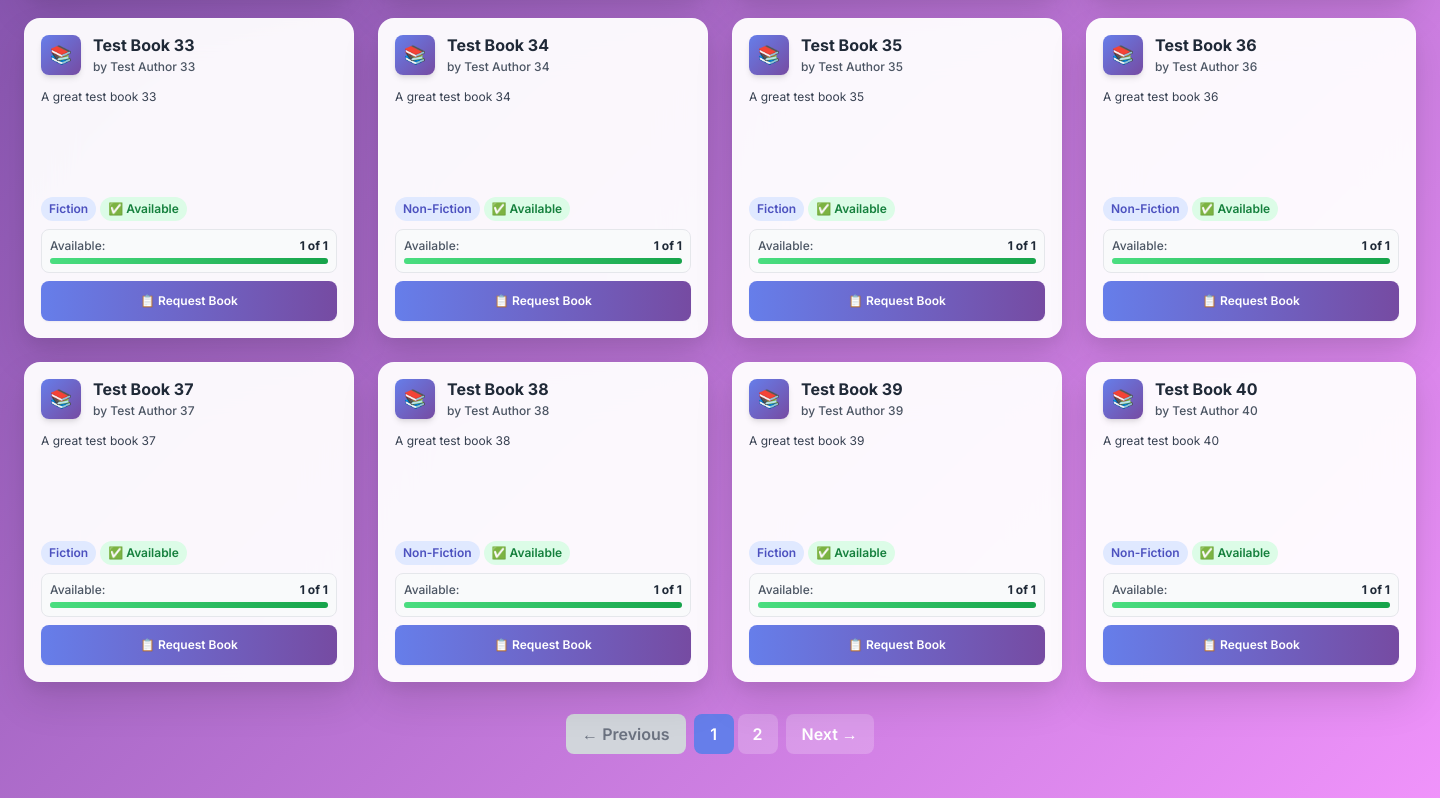
Scenario: BookCatalog Component › resets to first page when filters change
The image size is (1440, 798).
(page scrolled)
# Go to page 2
Click the button "Next →". click: click(830, 734)
box: [786, 714, 874, 754]
(page scrolled)
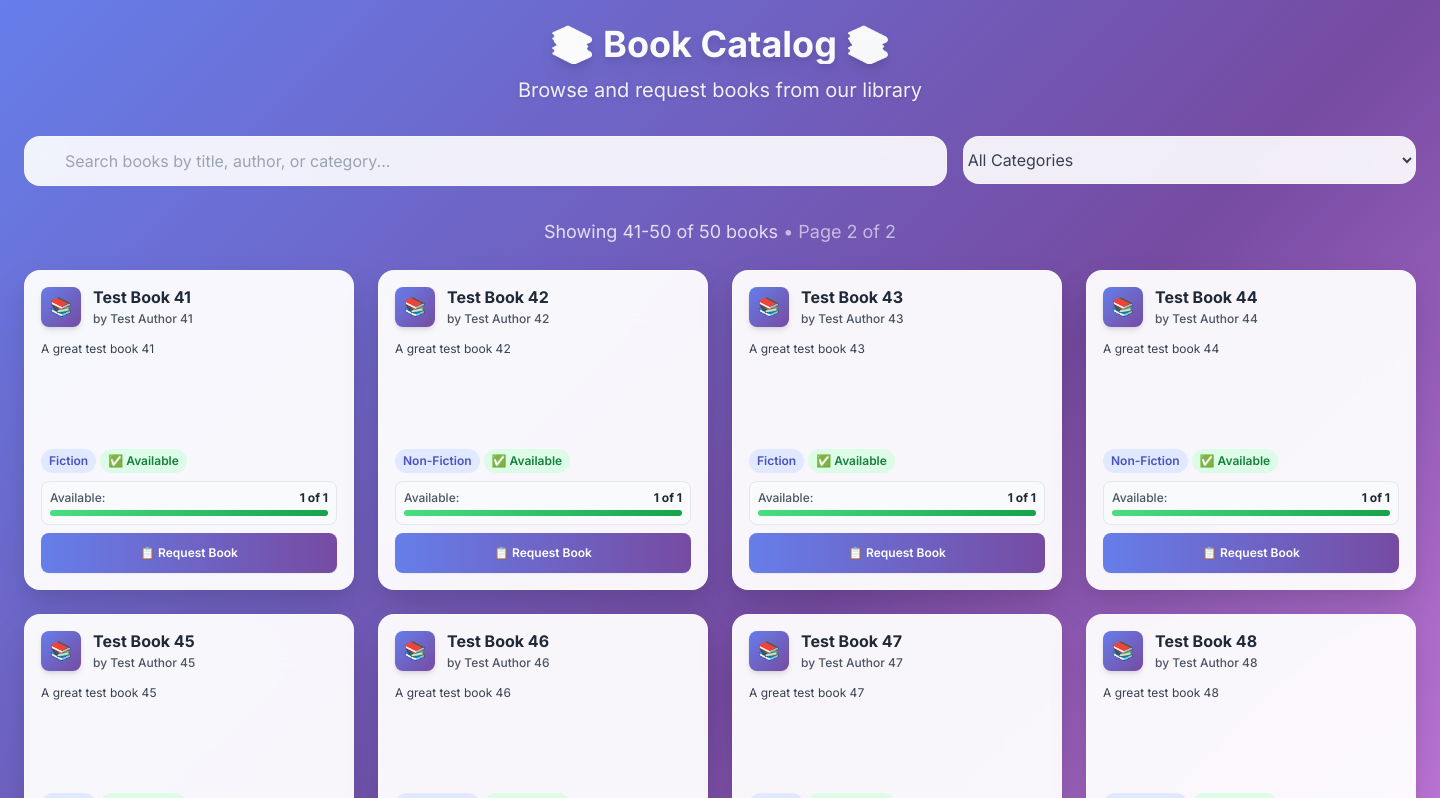
Expected: the text "• Page 2 of 2" is shown, [778, 221, 896, 242]
# Apply a filter
Type "Test Book 1" into the field with placeholder "Search books by title, author, or category...". click: (485, 161)
box: [24, 136, 947, 186]
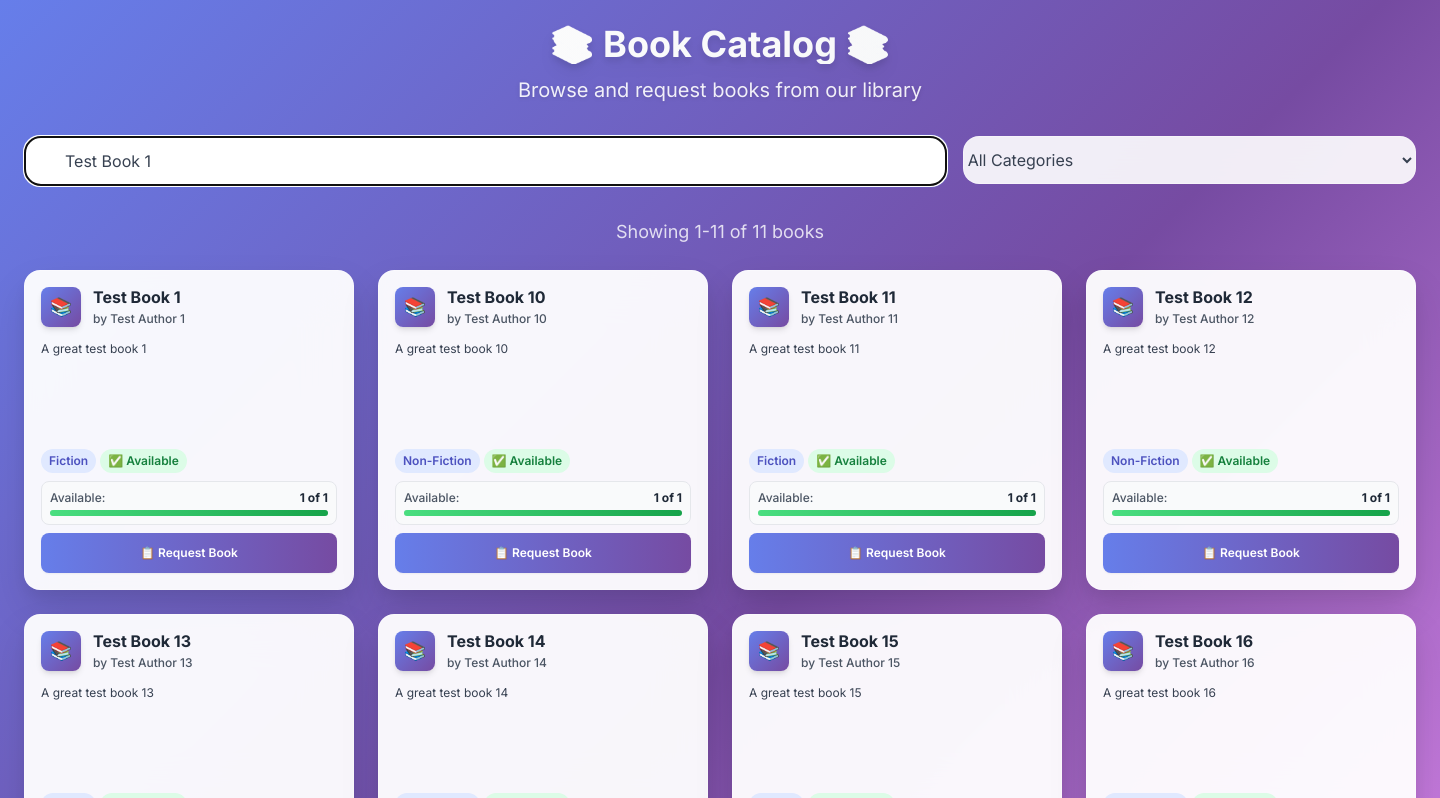
Expected: the text "• Page" is gone
